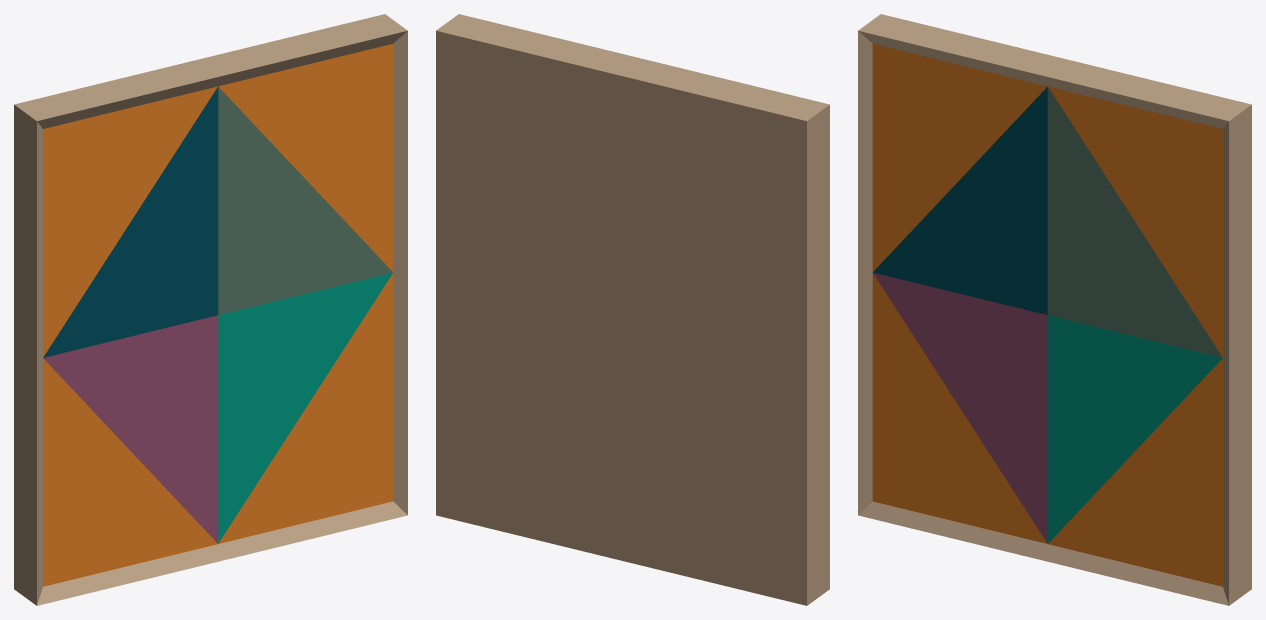
File: Accesories_Frame_H.glb
The picture shows the model from 3 angles, left to right: view 1: azimuth 30°, elevation 25°; view 2: azimuth 150°, elevation 25°; view 3: azimuth 330°, elevation 25°; orthographic projection.
Parts seen in each view (by area): view 1: Accesories_Frame_H; view 2: Accesories_Frame_H; view 3: Accesories_Frame_H.
Boxes of the visible parts, x1=… form: Accesories_Frame_H: x1=14, y1=14, x2=407, y2=605; Accesories_Frame_H: x1=436, y1=14, x2=829, y2=605; Accesories_Frame_H: x1=858, y1=14, x2=1251, y2=605.
Bounding box in the file's own units: 0.3999 × 0.4993 × 0.0426.
1 material, 1 textured.
